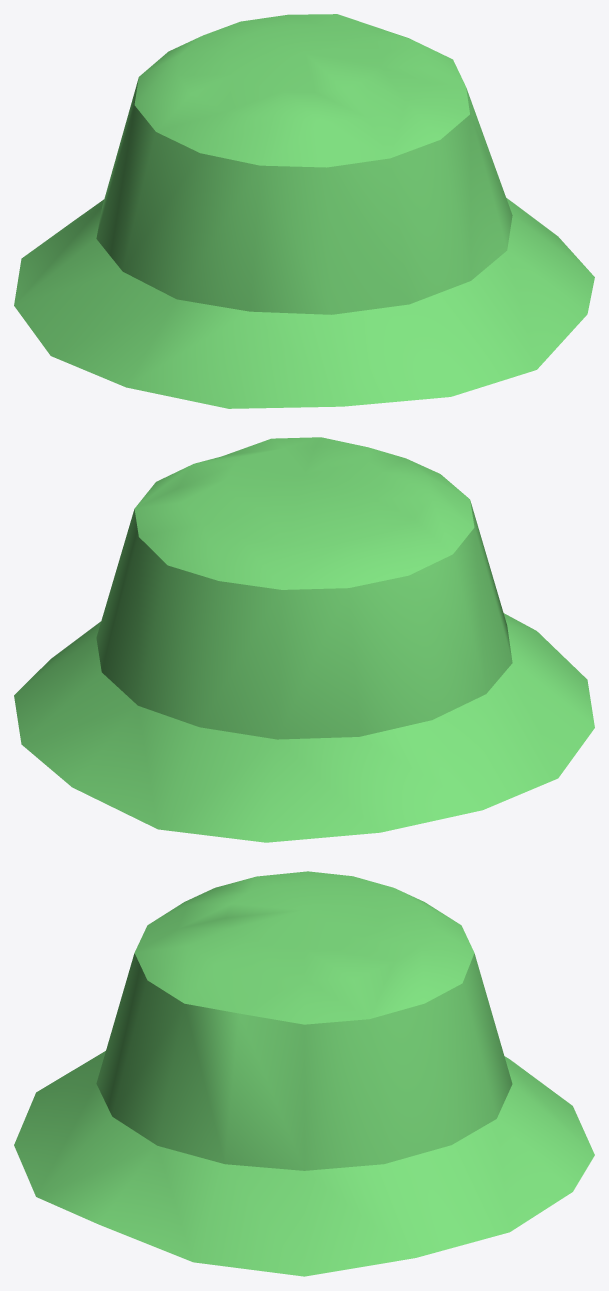
File: SM_Hat.fbx
3 views of the same model, one above another, from view 1: azimuth 30°, elevation 25°; view 2: azimuth 150°, elevation 25°; view 3: azimuth 270°, elevation 25° (orthographic).
Parts seen in each view (by area): view 1: SM_Hat; view 2: SM_Hat; view 3: SM_Hat.
Boxes of the visible parts, x1,y1,x2,y2 form: SM_Hat: (14,14,594,408); SM_Hat: (14,437,594,842); SM_Hat: (14,871,594,1276).
Bounding box in the file's own units: 24.13 × 24.13 × 11.23.
1 material, 1 textured.
